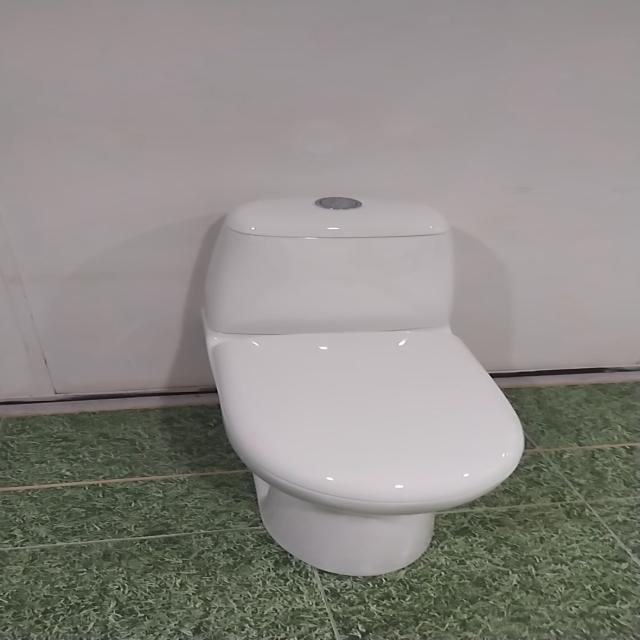toilet: (190, 188, 536, 585)
